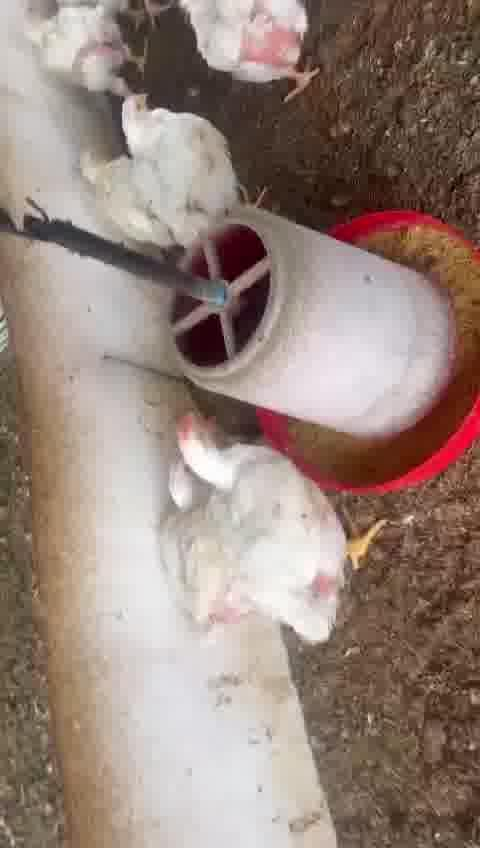AbNormal: (72, 139, 178, 259)
Normal: (185, 402, 368, 638), (115, 91, 258, 247), (179, 0, 351, 111), (157, 454, 236, 639)
